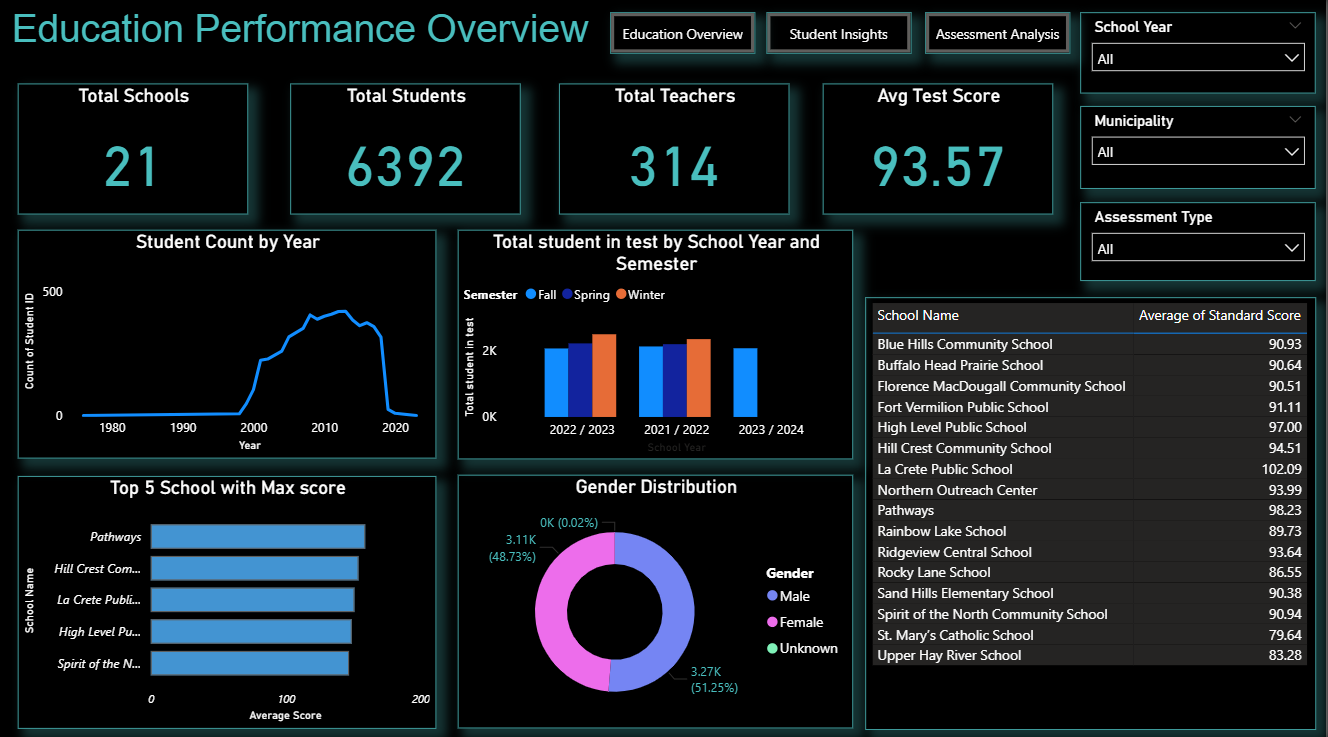

The dashboard page shown, as its layout file describes it:
{"tool":"powerbi","page":{"name":"Education Overview","canvas":[1280,720],"ordinal":0},"visuals":[{"type":"card","title":"Total Schools","fields":{"Values":["Count(Schools.School Name)"]},"box":[17.5,85,222.5,126.2],"z":0},{"type":"card","title":"Total Students","fields":{"Values":["Count(Students.Student ID)"]},"box":[281.2,85,222.5,126.2],"z":1000},{"type":"card","title":"Total Teachers","fields":{"Values":["Count(Teachers1.Teacher ID)"]},"box":[540,85,222.5,126.2],"z":2000},{"type":"card","title":"Avg Test Score","fields":{"Values":["Avg(Tests.Standard Score)"]},"box":[795,85,222.5,126.2],"z":3000},{"type":"barChart","title":"Top 5 School with Max score","fields":{"Category":["Schools.School Name"],"Y":["Max(Tests.Standard Score)"]},"box":[18.1,463.3,404.2,243.7],"z":4000},{"type":"donutChart","title":"Gender Distribution","fields":{"Category":["Students.Gender"],"Y":["Count(Students.Student Name)"]},"box":[442.4,462.6,381.9,244.8],"z":5000},{"type":"lineChart","title":"Student Count by Year","fields":{"Category":["Students.Date of Birth.Variation.Date Hierarchy.Year"],"Y":["CountNonNull(Students.Student ID)"]},"box":[18.1,225.6,404.2,220.8],"z":6000},{"type":"slicer","fields":{"Values":["Tests.School Year"]},"box":[1043.8,16.2,227.5,78.8],"z":7000},{"type":"slicer","fields":{"Values":["Schools.Municipality"]},"box":[1043.8,106.2,227.5,80],"z":8000},{"type":"slicer","fields":{"Values":["Test_Details.Assessment Type"]},"box":[1043.8,198.8,227.5,76.2],"z":9000},{"type":"tableEx","fields":{"Values":["Schools.School Name","Avg(Tests.Standard Score)"]},"box":[836.5,290.5,435.1,417.6],"z":10000},{"type":"textbox","box":[7.5,0,582.5,72.5],"z":11000},{"type":"actionButton","box":[741.2,16.2,140,40],"z":12000},{"type":"actionButton","box":[893.8,16.2,140,40],"z":13000},{"type":"actionButton","box":[590,16.2,140,40],"z":14000},{"type":"clusteredColumnChart","fields":{"Y":["Tests.Total student in test"],"Category":["Tests.School Year"],"Series":["Tests.Semester"]},"box":[442.4,225.9,381.9,221.9],"z":15000}]}

Visuals, with their boxes in screenshot pixels (x1, y1, x2, y2), scaled from the page's 1280x720 canvas onto the 1328x737 screenshot:
"Total Schools" card: 18, 87, 249, 216
"Total Students" card: 292, 87, 523, 216
"Total Teachers" card: 560, 87, 791, 216
"Avg Test Score" card: 825, 87, 1056, 216
"Top 5 School with Max score" barChart: 19, 474, 438, 724
"Gender Distribution" donutChart: 459, 474, 855, 724
"Student Count by Year" lineChart: 19, 231, 438, 457
slicer - Tests.School Year: 1083, 17, 1319, 97
slicer - Schools.Municipality: 1083, 109, 1319, 191
slicer - Test_Details.Assessment Type: 1083, 203, 1319, 281
tableEx - Schools.School Name x Avg(Tests.Standard Score): 868, 297, 1319, 725
textbox: 8, 0, 612, 74
actionButton: 769, 17, 914, 58
actionButton: 927, 17, 1073, 58
actionButton: 612, 17, 757, 58
clusteredColumnChart - Tests.Total student in test x Tests.School Year: 459, 231, 855, 458
